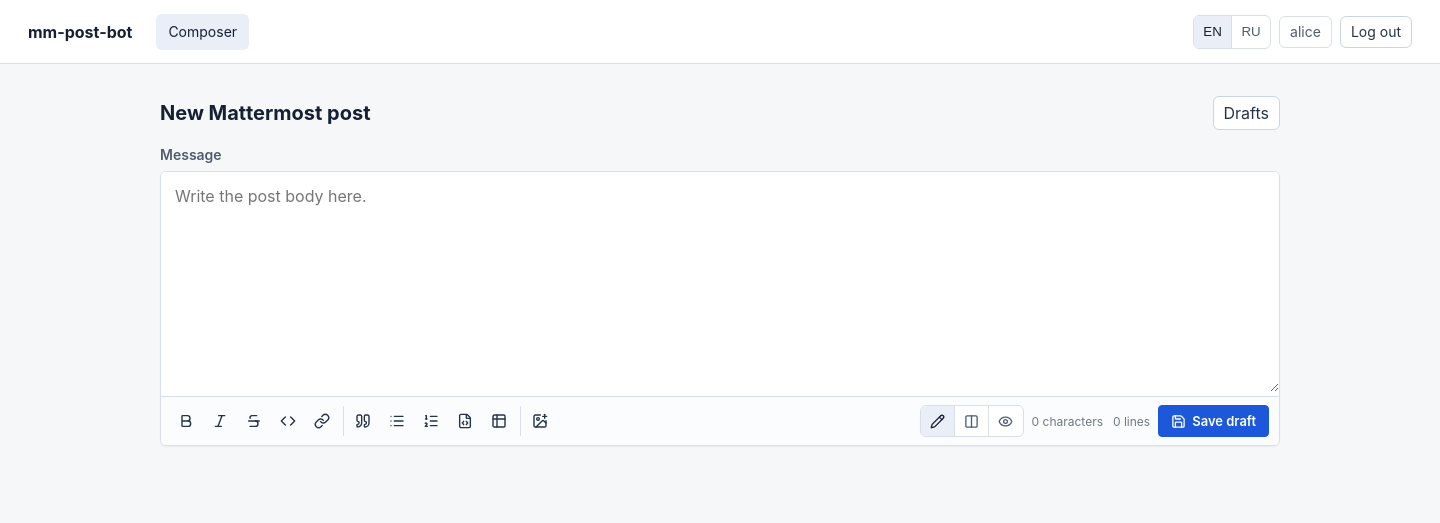
Test case: App › renders mutation errors inline
This screenshot has width=1440, height=523.
Expected: the text "alice" is shown, [1279,16,1332,48]
Click the button "Save draft" at (1214, 421), box [1158,405,1269,437]
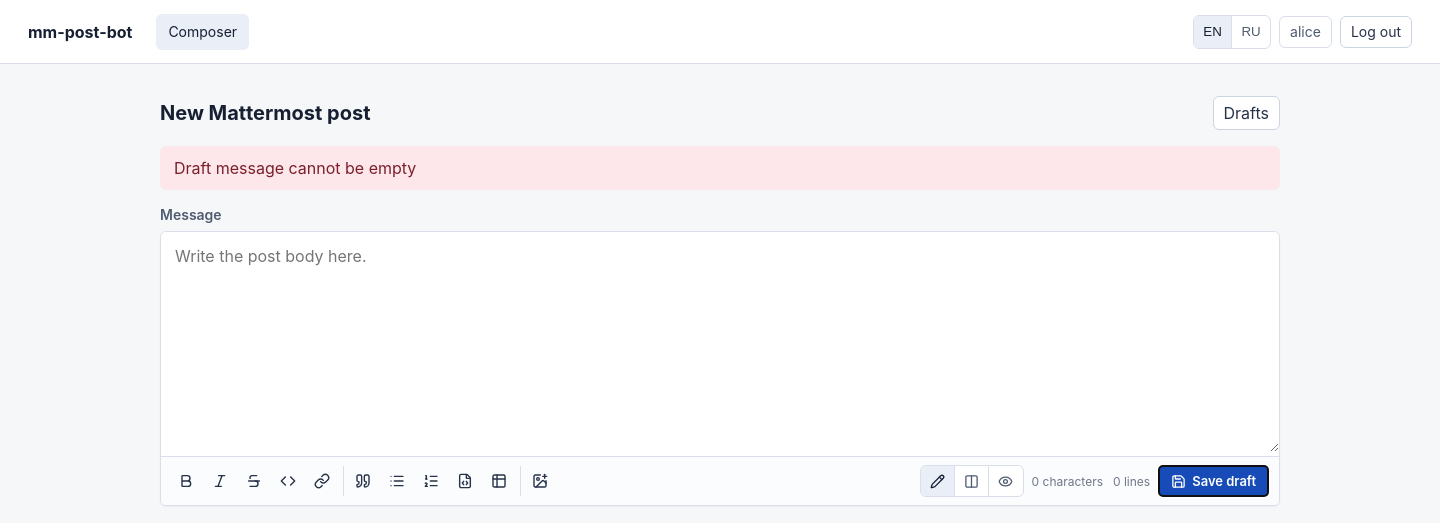
Now the message reads "Draft message cannot be empty", box [174,158,416,178]
